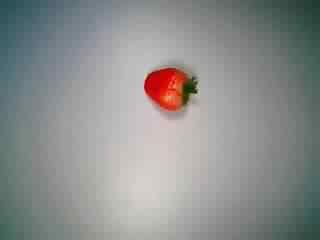strawberry: (138, 56, 204, 122)
